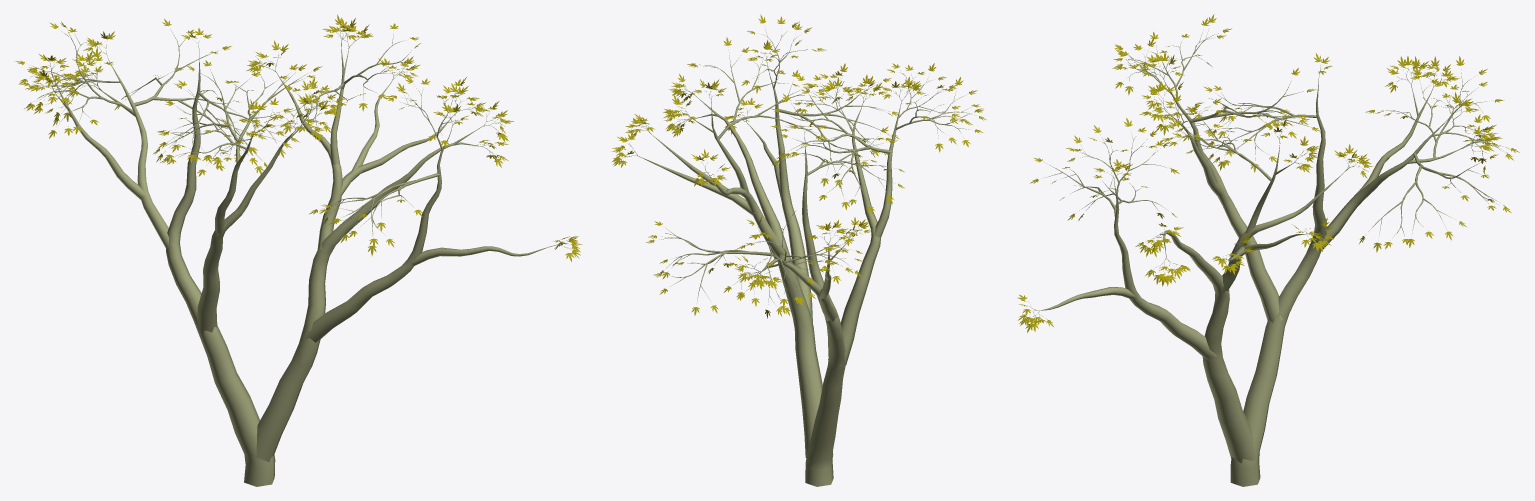
Rendered from tree1WithLeaves.obj.
3 renders of one model, left to right at view 1: azimuth 30°, elevation 25°; view 2: azimuth 150°, elevation 25°; view 3: azimuth 270°, elevation 25°, orthographic. The views are drawn at different scales.
Visible parts, largest first — view 1: tree_CUtree, leaves; view 2: tree_CUtree, leaves; view 3: tree_CUtree, leaves.
Part boxes in pixels (box(x1,y1,x2,y2)): tree_CUtree: box(30, 29, 570, 486); leaves: box(14, 14, 582, 261); tree_CUtree: box(623, 28, 972, 486); leaves: box(611, 14, 986, 318); tree_CUtree: box(1027, 29, 1503, 486); leaves: box(1017, 14, 1519, 332).
Bounding box in the file's own units: 196 × 230 × 251.
